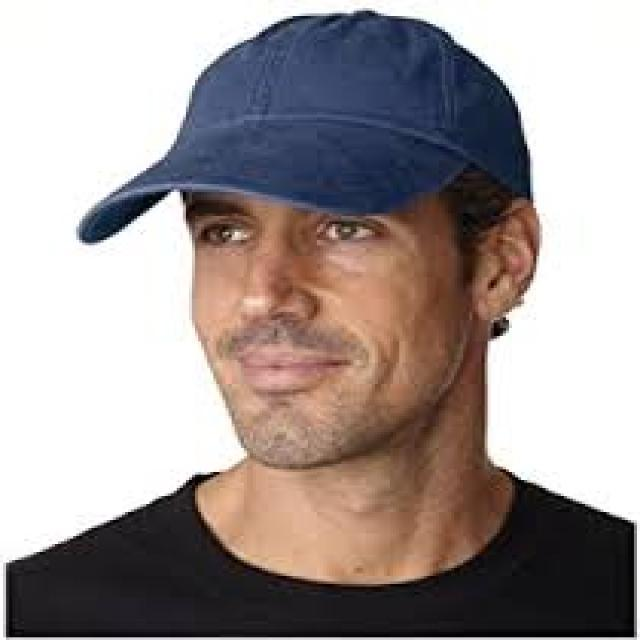cap: (47, 0, 574, 281)
